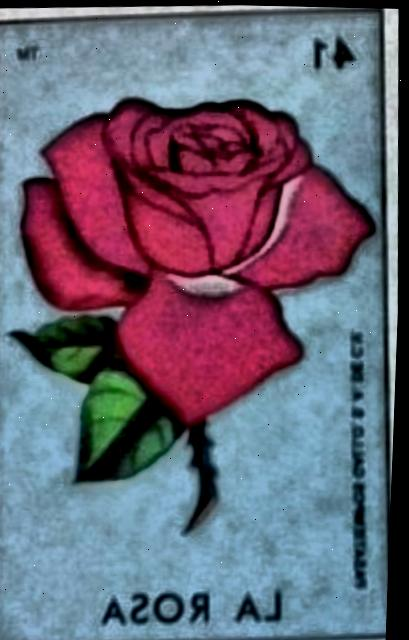La Rosa: (0, 6, 392, 640)
